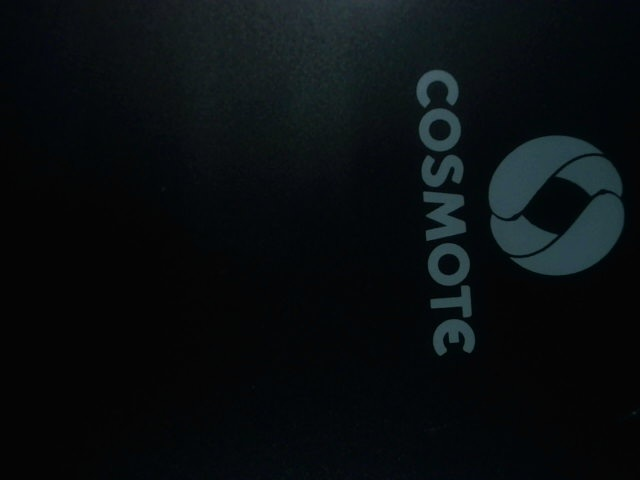AU_COSMOTE: (395, 67, 630, 368)
